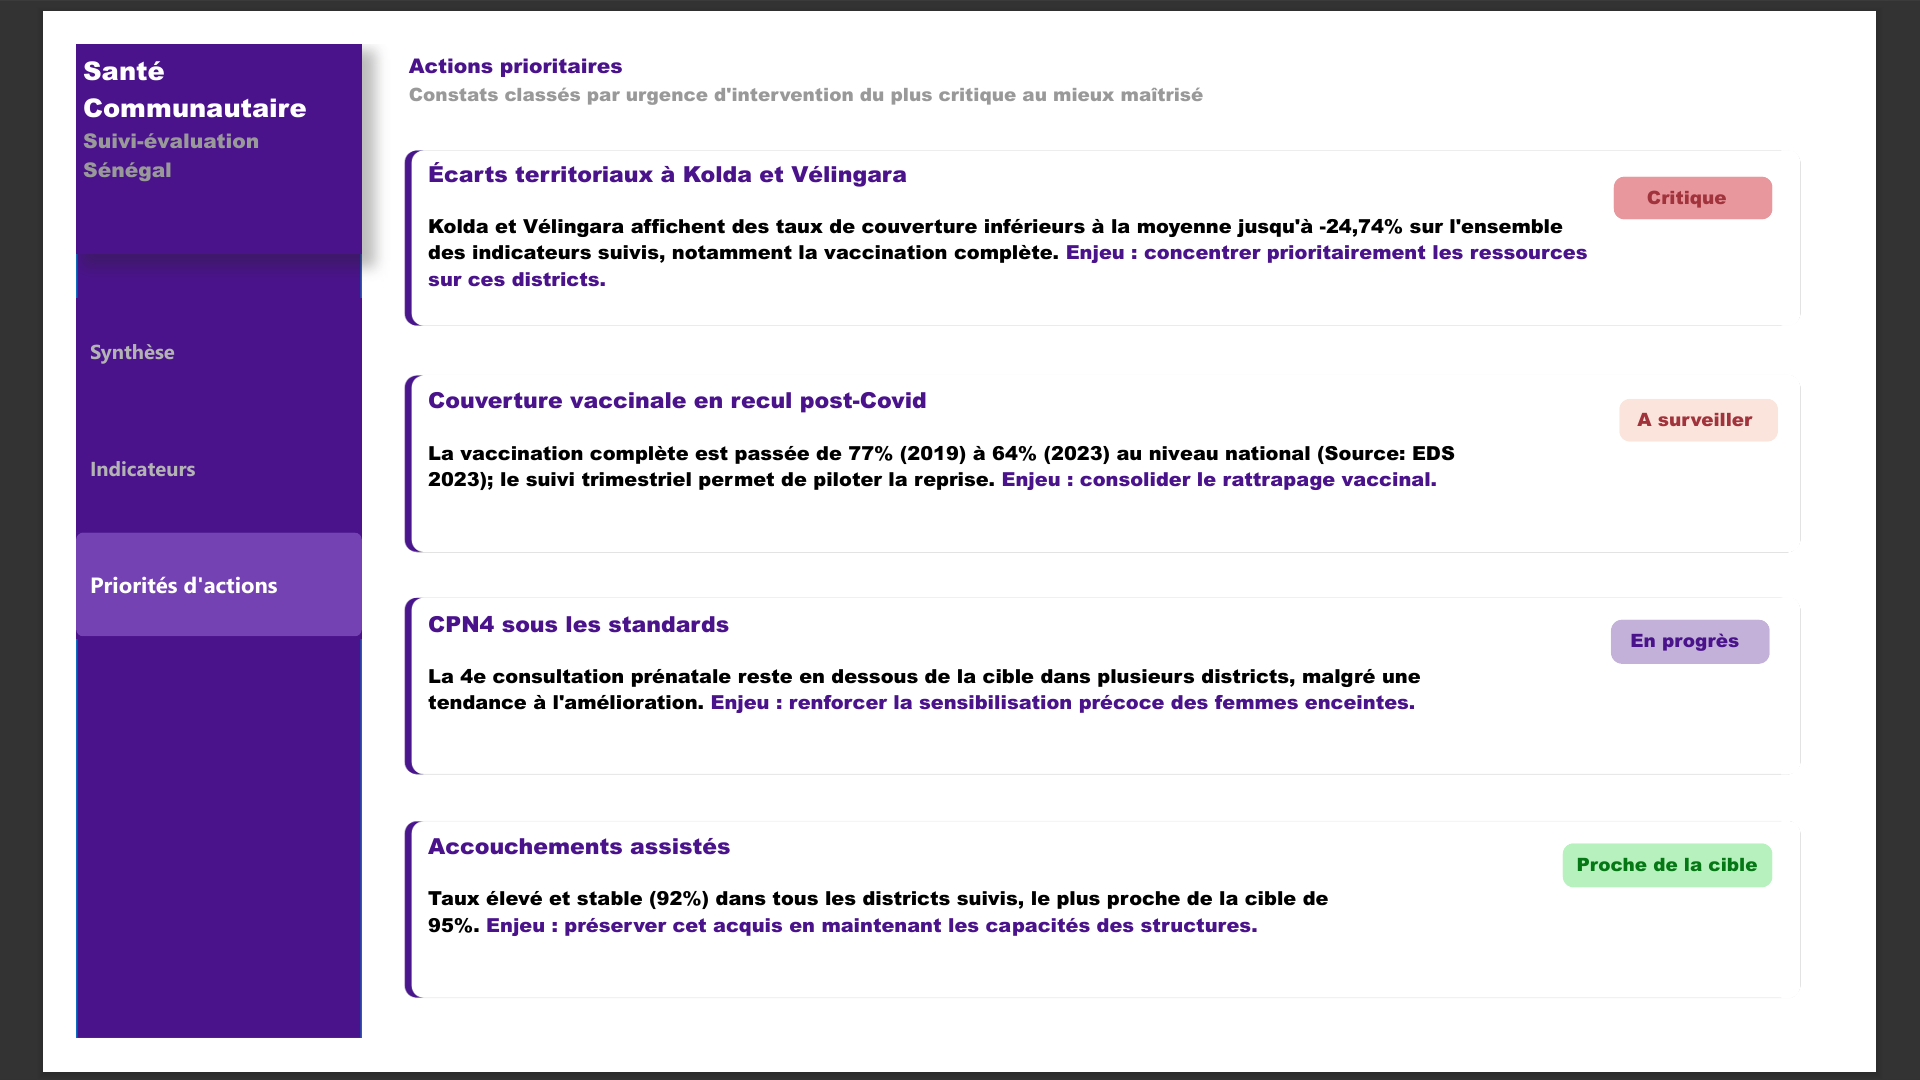

The dashboard page shown, as its layout file describes it:
{"tool":"powerbi","page":{"name":"Priorités d'actions","canvas":[1280,720],"ordinal":2},"visuals":[{"type":"shape","title":"Adoption des pratiques résilientes","box":[237.7,71.6,1015.9,137.9],"z":0},{"type":"shape","box":[0,0,207.1,720.6],"z":1000},{"type":"pageNavigator","box":[0,183.9,207.1,246.8],"z":2000},{"type":"textbox","box":[0,0,207.1,152.4],"z":3000},{"type":"textbox","box":[235.6,0,841.3,64.6],"z":4000},{"type":"textbox","title":"Zone de texte (Femmes)","box":[249.6,76.8,851.8,125.7],"z":5000},{"type":"shape","title":"Adoption des pratiques résilientes","box":[237.7,235.2,1015.9,137.9],"z":6000},{"type":"textbox","title":"Zone de texte (Femmes)","box":[249.6,240.9,792.4,125.7],"z":7000},{"type":"shape","title":"Adoption des pratiques résilientes","box":[237.7,396.4,1015.9,137.9],"z":8000},{"type":"textbox","title":"Zone de texte (Femmes)","box":[249.6,403.2,745.3,125.7],"z":9000},{"type":"shape","title":"Adoption des pratiques résilientes","box":[237.7,557.7,1015.9,137.9],"z":10000},{"type":"textbox","title":"Zone de texte (Femmes)","box":[249.6,563.8,689.5,125.7],"z":11000},{"type":"shape","box":[1113.6,96,115.2,31.4],"z":12000},{"type":"textbox","box":[1132.8,96,76.8,40.1],"z":13000},{"type":"shape","box":[1117.8,256.7,115.2,31.4],"z":14000},{"type":"textbox","box":[1125.8,256.6,110,40.1],"z":15000},{"type":"shape","box":[1112,417.3,115.2,31.4],"z":16000},{"type":"textbox","box":[1120.6,417.2,106.5,40.1],"z":17000},{"type":"shape","box":[1077,579.5,151.9,31.4],"z":18000},{"type":"textbox","box":[1082.2,579.5,150.1,40.1],"z":19000}]}

Visuals, with their boxes in screenshot pixels (x1, y1, x2, y2), scaled from the page's 1280x720 canvas onto the 1920x1080 screenshot:
"Adoption des pratiques résilientes" shape: BBox(357, 107, 1880, 314)
shape: BBox(0, 0, 311, 1079)
pageNavigator: BBox(0, 276, 311, 646)
textbox: BBox(0, 0, 311, 229)
textbox: BBox(353, 0, 1615, 97)
"Zone de texte (Femmes)" textbox: BBox(374, 115, 1652, 304)
"Adoption des pratiques résilientes" shape: BBox(357, 353, 1880, 560)
"Zone de texte (Femmes)" textbox: BBox(374, 361, 1563, 550)
"Adoption des pratiques résilientes" shape: BBox(357, 595, 1880, 801)
"Zone de texte (Femmes)" textbox: BBox(374, 605, 1492, 793)
"Adoption des pratiques résilientes" shape: BBox(357, 837, 1880, 1043)
"Zone de texte (Femmes)" textbox: BBox(374, 846, 1409, 1034)
shape: BBox(1670, 144, 1843, 191)
textbox: BBox(1699, 144, 1814, 204)
shape: BBox(1677, 385, 1850, 432)
textbox: BBox(1689, 385, 1854, 445)
shape: BBox(1668, 626, 1841, 673)
textbox: BBox(1681, 626, 1841, 686)
shape: BBox(1616, 869, 1843, 916)
textbox: BBox(1623, 869, 1848, 929)
